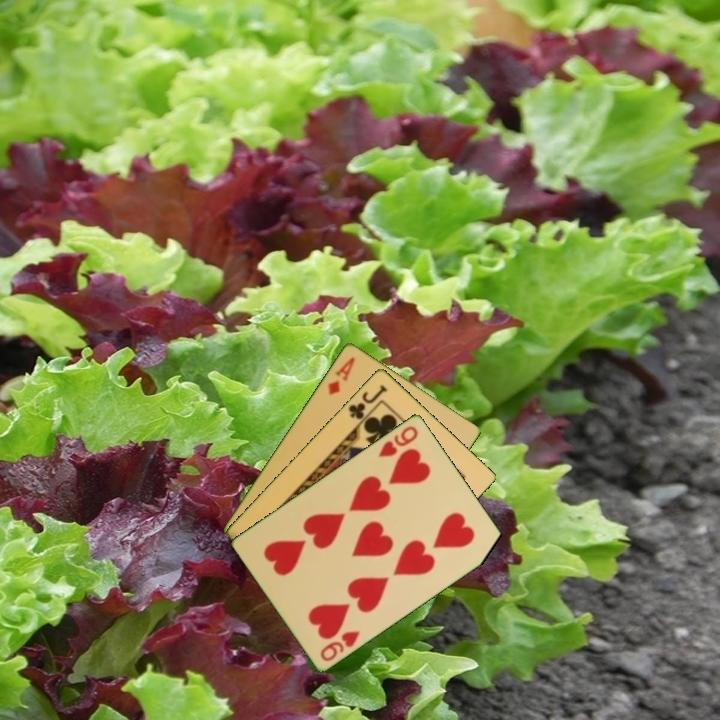9h: (375, 422, 421, 460), (317, 627, 363, 664)
Ad: (324, 353, 358, 398)
Jc: (344, 381, 390, 422)
